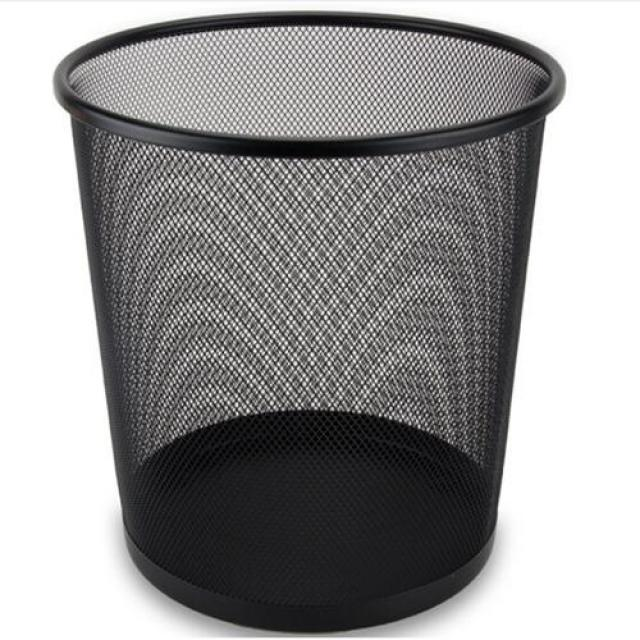Dustbin: (47, 6, 572, 638)
